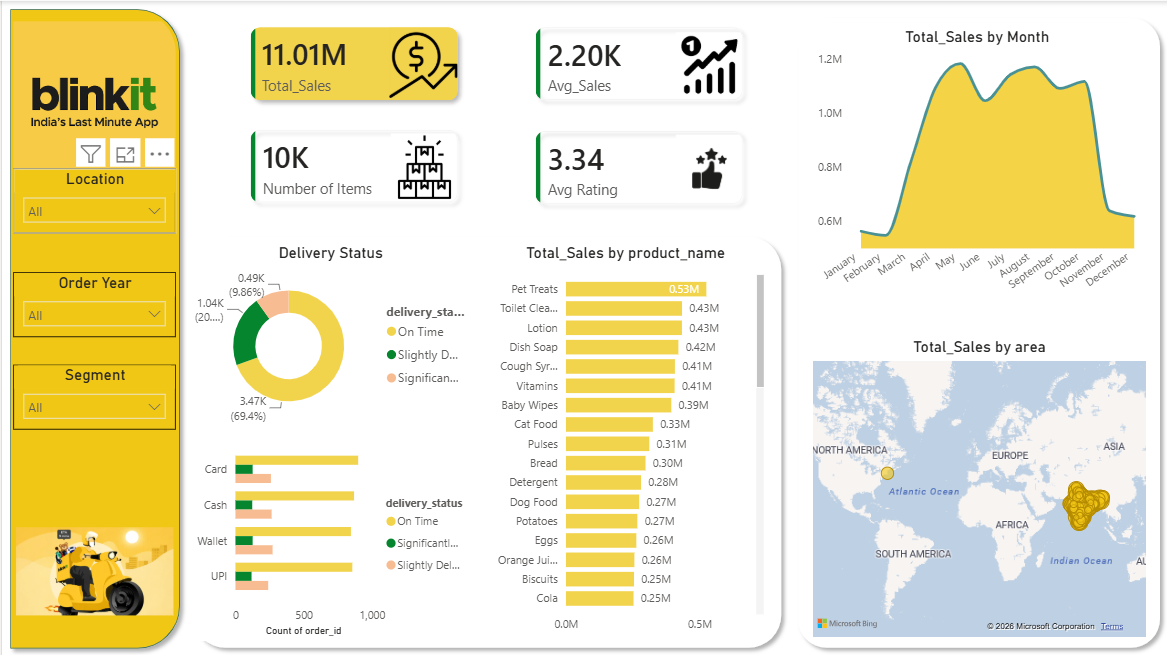

What the dashboard file says about the page in this screenshot:
{"tool":"powerbi","page":{"name":"Dashboard","canvas":[1280,720],"ordinal":1},"visuals":[{"type":"group","id":"g1","title":"Group 3","box":[0,0,204.3,720],"z":0},{"type":"group","id":"g2","title":"Group 2","box":[0,0,204.5,720.4],"z":0,"group":"g1"},{"type":"shape","box":[0,0,204.3,720],"z":0,"group":"g2"},{"type":"image","box":[11.9,10.2,177,153.2],"z":1000,"group":"g1"},{"type":"group","id":"g3","title":"Group 4","box":[207.7,251.9,663.8,468.1],"z":1000},{"type":"group","id":"g4","title":"Group 6","box":[245.1,1.7,1034.9,718.3],"z":2000},{"type":"cardVisual","fields":{"Data":["_Measures.Total_Sales"]},"box":[245.1,1.7,285.7,138.6],"z":2000,"group":"g4"},{"type":"actionButton","box":[12.5,499.5,178.1,50.1],"z":2001},{"type":"actionButton","box":[12.5,11.1,36.2,43.1],"z":2002},{"type":"cardVisual","fields":{"Data":["_Measures.Avg_Sales"]},"box":[558,1.7,285.7,138.6],"z":3000,"group":"g4"},{"type":"cardVisual","fields":{"Data":["_Measures.Numberof Items"]},"box":[245.1,114.6,285.7,138.6],"z":4000,"group":"g4"},{"type":"cardVisual","fields":{"Data":["_Measures.Avg Rating"]},"box":[558,116,285.7,138.6],"z":5000,"group":"g4"},{"type":"shape","box":[207.7,251.9,664.2,469.3],"z":6000,"group":"g3"},{"type":"donutChart","title":"Delivery Status","fields":{"Category":["Delivery_performance.delivery_status"],"Y":["CountNonNull(Delivery_performance.order_id)"]},"box":[210.4,268.4,315.6,204.5],"z":7000,"group":"g3"},{"type":"clusteredBarChart","fields":{"Y":["CountNonNull(blinkit_orders.order_id)"],"Category":["blinkit_orders.payment_method"],"Series":["blinkit_orders.delivery_status"]},"box":[211.8,472.8,312.9,231.9],"z":8000,"group":"g3"},{"type":"clusteredBarChart","fields":{"Category":["Products.product_name"],"Y":["_Measures.Total_Sales"]},"box":[535.7,268.4,312.9,436.4],"z":9000,"group":"g3"},{"type":"shape","box":[865.3,11.3,415.8,709.4],"z":10000,"group":"g5"},{"type":"stackedAreaChart","fields":{"Category":["blinkit_orders.order_date.Variation.Date Hierarchy.Month"],"Y":["_Measures.Total_Sales"]},"box":[882.5,30,376.7,310],"z":11000,"group":"g5"},{"type":"map","fields":{"Category":["Customers.area"],"Size":["_Measures.Total_Sales"]},"box":[885.9,370.8,376,333.4],"z":12000,"group":"g5"},{"type":"group","id":"g5","title":"Group 5","box":[865.3,11.3,415.8,709.4],"z":12003,"group":"g4"},{"type":"slicer","title":"Location","fields":{"Values":["Customers.area"]},"box":[12.4,183.9,178.4,71.4],"z":13000,"group":"g6"},{"type":"slicer","title":"Order Year","fields":{"Values":["blinkit_orders.order_date.Variation.Date Hierarchy.Year"]},"box":[12.4,297.8,178.4,71.4],"z":14000,"group":"g6"},{"type":"slicer","title":"Segment","fields":{"Values":["Customer_feedback.sentiment"]},"box":[12.4,399.3,178.4,71.4],"z":15000,"group":"g6"},{"type":"image","box":[8.6,577.2,187.1,97.1],"z":16000,"group":"g6"},{"type":"group","id":"g6","title":"Group 1","box":[8.6,183.9,187.1,490.4],"z":16001,"group":"g2"}]}

Visuals, with their boxes in screenshot pixels (x1, y1, x2, y2), scaled from the page's 1280x720 canvas onto the 1167x655 screenshot:
"Group 3" group: l=0, t=0, r=186, b=654
"Group 2" group: l=0, t=0, r=186, b=654
shape: l=0, t=0, r=186, b=654
image: l=11, t=9, r=172, b=149
"Group 4" group: l=189, t=229, r=795, b=654
"Group 6" group: l=223, t=2, r=1166, b=654
cardVisual - _Measures.Total_Sales: l=223, t=2, r=484, b=128
actionButton: l=11, t=454, r=174, b=500
actionButton: l=11, t=10, r=44, b=49
cardVisual - _Measures.Avg_Sales: l=509, t=2, r=769, b=128
cardVisual - _Measures.Numberof Items: l=223, t=104, r=484, b=230
cardVisual - _Measures.Avg Rating: l=509, t=106, r=769, b=232
shape: l=189, t=229, r=795, b=654
"Delivery Status" donutChart: l=192, t=244, r=480, b=430
clusteredBarChart - CountNonNull(blinkit_orders.order_id) x blinkit_orders.payment_method: l=193, t=430, r=478, b=641
clusteredBarChart - Products.product_name x _Measures.Total_Sales: l=488, t=244, r=774, b=641
shape: l=789, t=10, r=1166, b=654
stackedAreaChart - blinkit_orders.order_date.Variation.Date Hierarchy.Month x _Measures.Total_Sales: l=805, t=27, r=1148, b=309
map - Customers.area x _Measures.Total_Sales: l=808, t=337, r=1150, b=641
"Group 5" group: l=789, t=10, r=1166, b=654
"Location" slicer: l=11, t=167, r=174, b=232
"Order Year" slicer: l=11, t=271, r=174, b=336
"Segment" slicer: l=11, t=363, r=174, b=428
image: l=8, t=525, r=178, b=613
"Group 1" group: l=8, t=167, r=178, b=613
